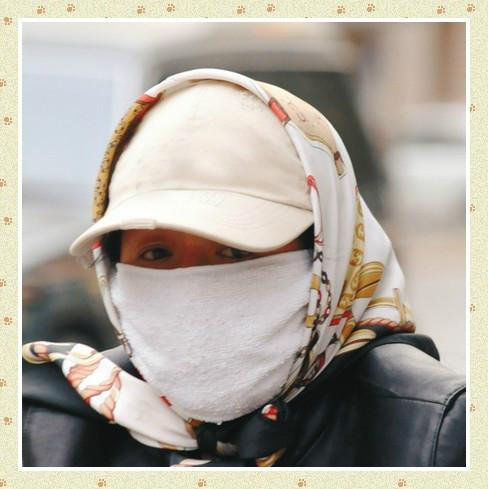OK: (107, 209, 314, 416)
